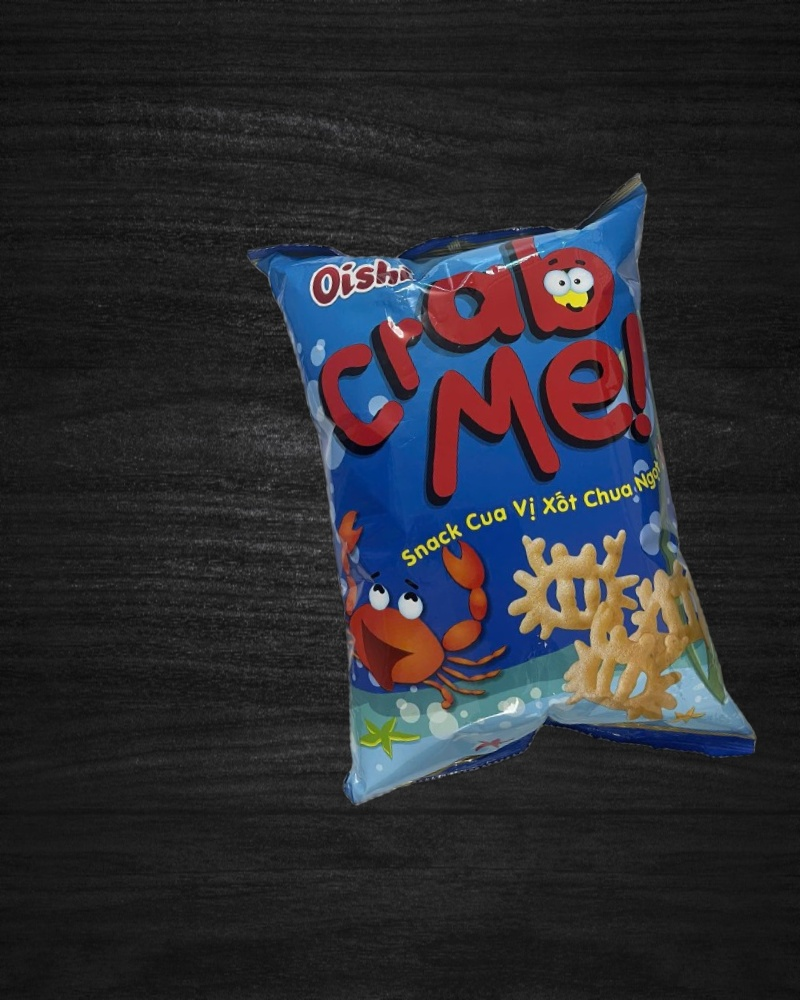Snack chay: (245, 170, 760, 828)
